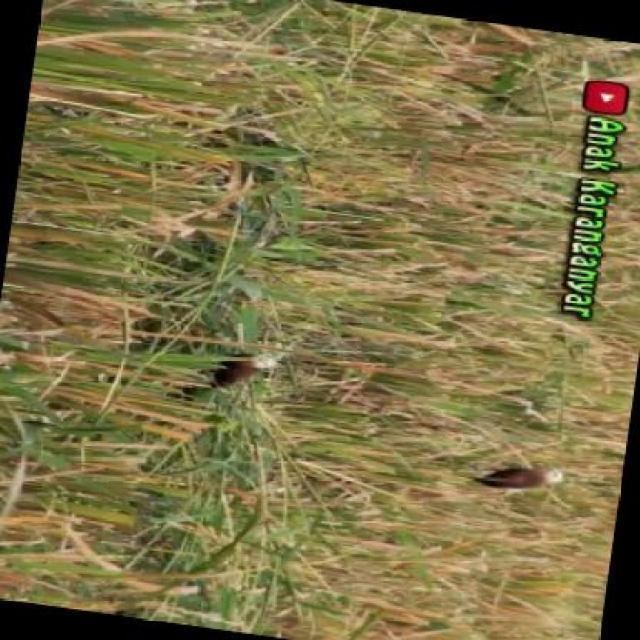Bird: (177, 334, 281, 428), (460, 444, 576, 527)
